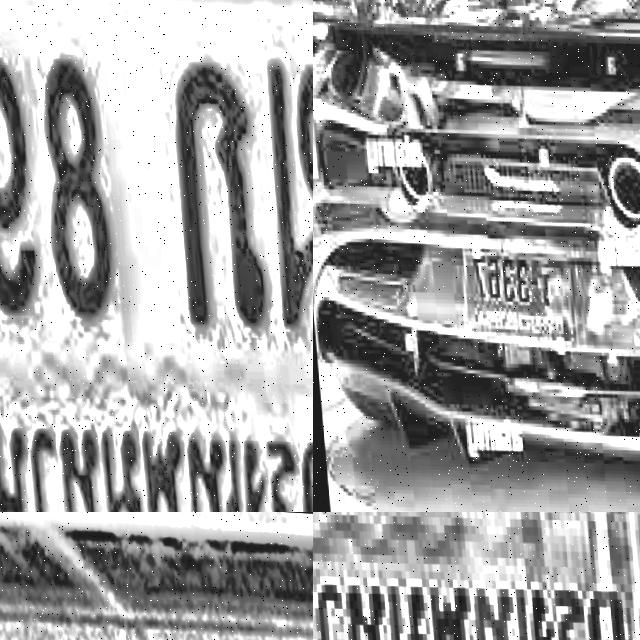license-plate: (0, 0, 313, 512), (313, 512, 640, 640), (0, 556, 313, 640), (445, 221, 586, 357)
